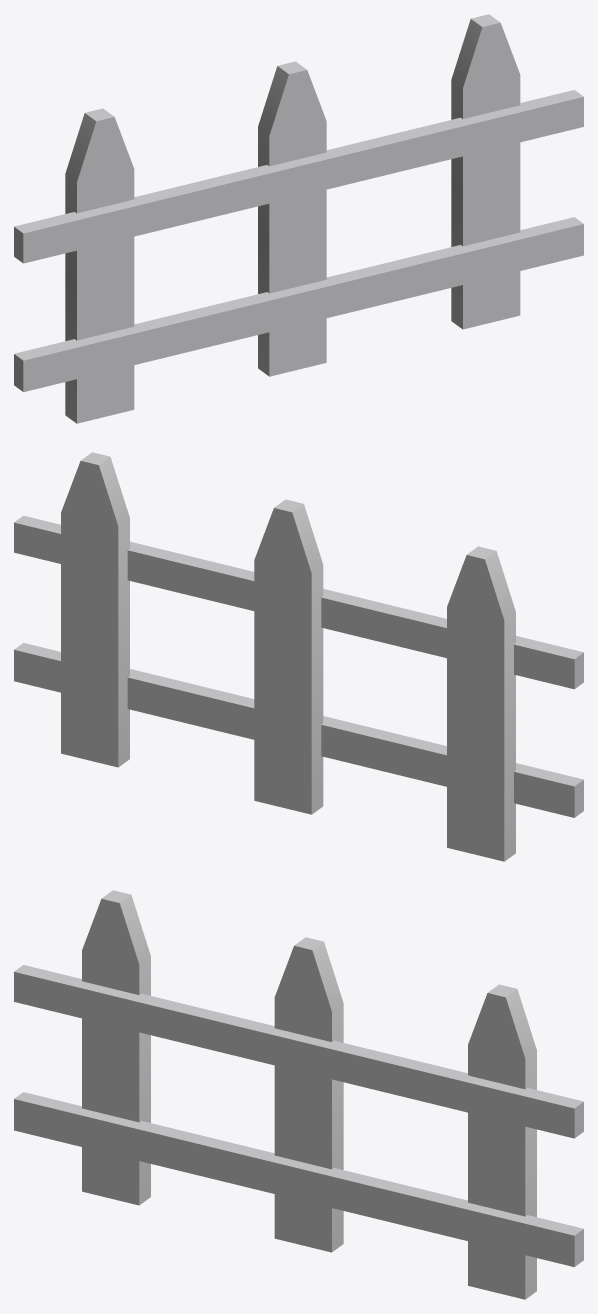
File: fence1.FBX
3 renders of one model, top to bottom at view 1: azimuth 30°, elevation 25°; view 2: azimuth 150°, elevation 25°; view 3: azimuth 330°, elevation 25°, orthographic.
Parts seen in each view (by area): view 1: fence1; view 2: fence1; view 3: fence1.
Boxes of the visible parts, x1,y1,x2,y2 form: fence1: (14,14,583,423); fence1: (14,452,583,861); fence1: (14,890,583,1299).
Bounding box in the file's own units: 8.6 × 4.36 × 0.5029.
